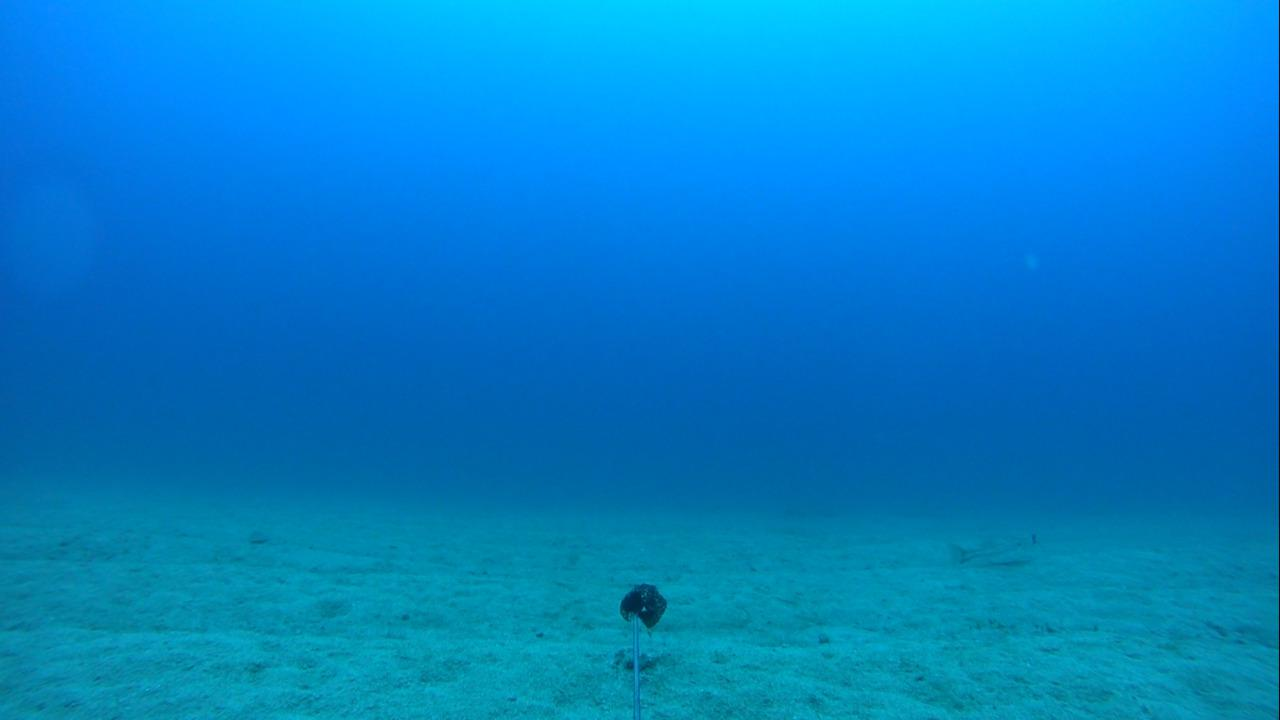dactylopterus: (940, 523, 1042, 567)
